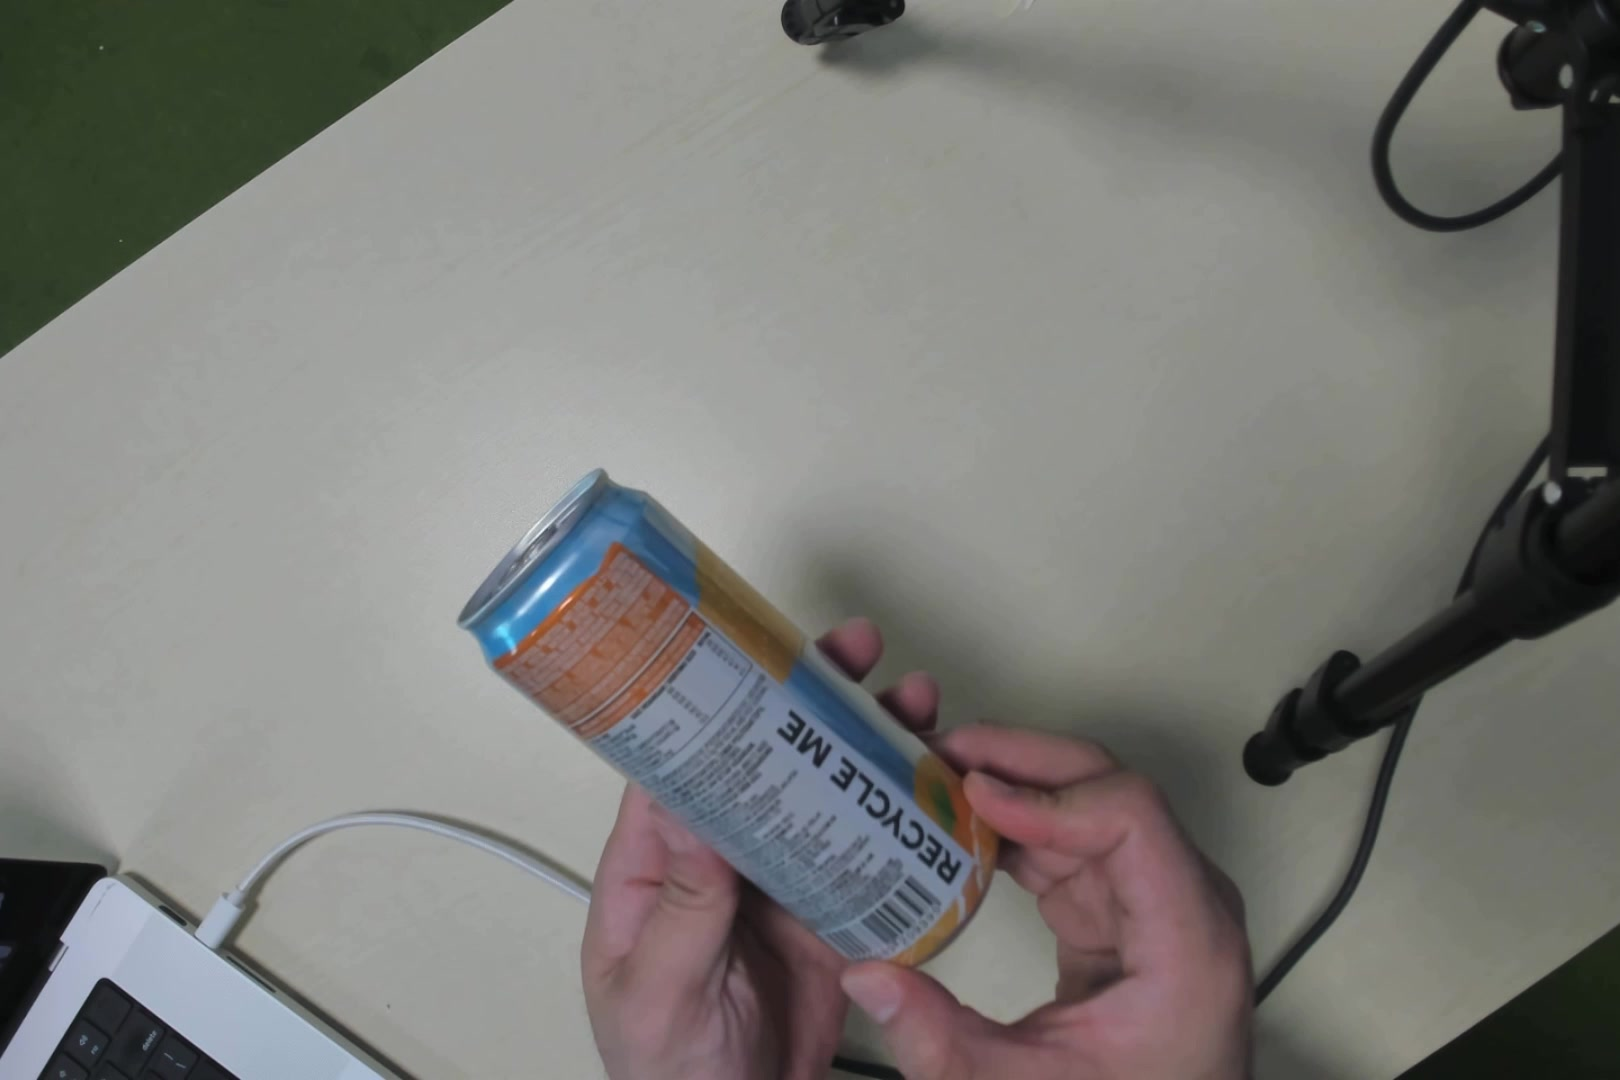SoftDrinks_200-299g_Halal_Healthy: (520, 499, 975, 972)
